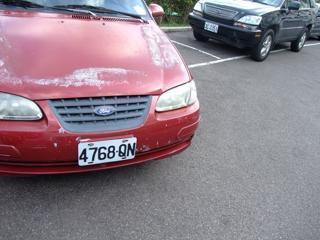plate: (77, 137, 137, 166)
